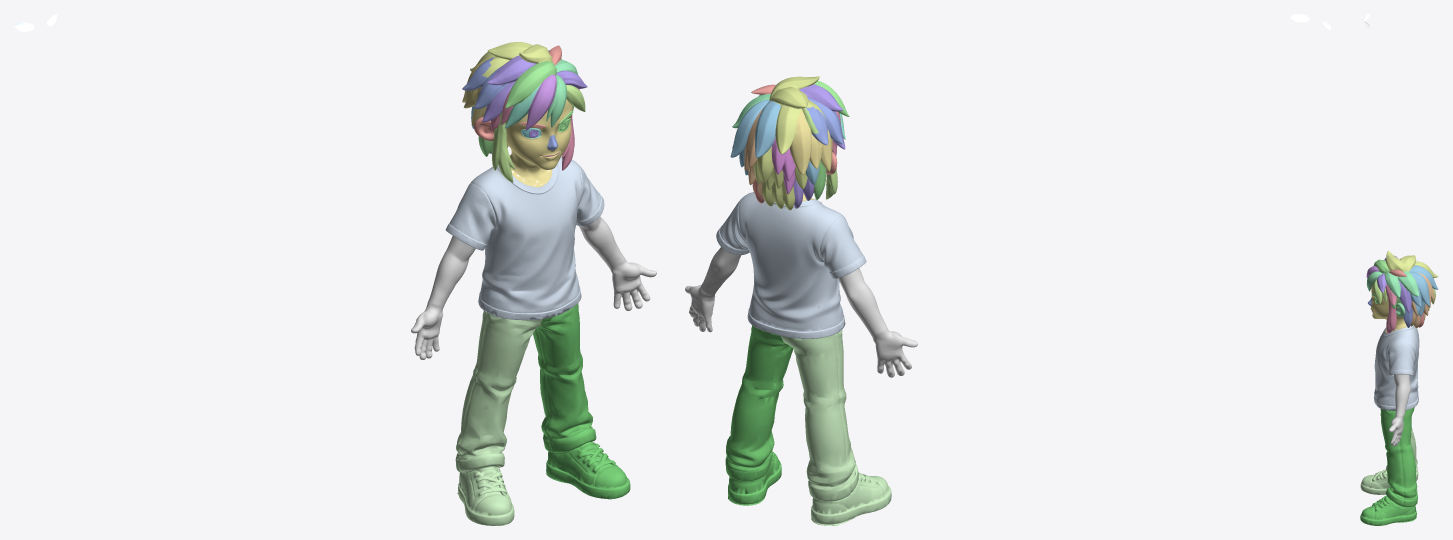
3 renders of one model, left to right at view 1: azimuth 30°, elevation 25°; view 2: azimuth 150°, elevation 25°; view 3: azimuth 270°, elevation 25°, orthographic. The views are drawn at different scales.
Parts seen in each view (by area): view 1: Torso_LOW, RightLeg_LOW, LeftLeg_LOW, RightArm_LOW, LeftArm_LOW, part_6_LOW, part_8_LOW, part_29_LOW, part_15_LOW, part_26_LOW, part_34_LOW, part_10_LOW (+1 smaller); view 2: Torso_LOW, RightLeg_LOW, LeftLeg_LOW, RightArm_LOW, part_8_LOW, LeftArm_LOW, part_25_LOW, part_5_LOW, part_9_LOW, part_26_LOW; view 3: LeftLeg_LOW, Torso_LOW, LeftArm_LOW, RightLeg_LOW, part_25_LOW, part_20_LOW, part_8_LOW, part_38_LOW, part_6_LOW, part_4_LOW, part_32_LOW, part_13_LOW (+5 smaller).
Part boxes in pixels (x1,y1,x2,y2): Torso_LOW: [445, 156, 604, 320]; RightLeg_LOW: [455, 311, 542, 525]; LeftLeg_LOW: [533, 303, 630, 499]; RightArm_LOW: [411, 236, 475, 359]; LeftArm_LOW: [579, 216, 656, 310]; part_6_LOW: [505, 99, 572, 169]; part_8_LOW: [470, 42, 552, 77]; part_29_LOW: [482, 55, 536, 122]; part_15_LOW: [505, 61, 556, 108]; part_26_LOW: [462, 57, 508, 108]; part_34_LOW: [525, 74, 556, 130]; part_10_LOW: [492, 112, 515, 182]; Torso_LOW: [716, 192, 866, 338]; RightLeg_LOW: [781, 329, 891, 525]; LeftLeg_LOW: [725, 325, 793, 505]; RightArm_LOW: [838, 268, 917, 377]; part_8_LOW: [769, 76, 825, 154]; LeftArm_LOW: [685, 247, 741, 332]; part_25_LOW: [730, 100, 781, 175]; part_5_LOW: [790, 111, 832, 174]; part_9_LOW: [753, 146, 794, 210]; part_26_LOW: [806, 98, 843, 145]; LeftLeg_LOW: [1360, 407, 1417, 525]; Torso_LOW: [1374, 325, 1419, 410]; LeftArm_LOW: [1388, 374, 1410, 446]; RightLeg_LOW: [1360, 428, 1418, 494]; part_25_LOW: [1409, 265, 1438, 316]; part_20_LOW: [1384, 271, 1419, 297]; part_8_LOW: [1386, 250, 1438, 278]; part_38_LOW: [1385, 284, 1396, 333]; part_6_LOW: [1370, 283, 1402, 318]; part_4_LOW: [1410, 272, 1434, 328]; part_32_LOW: [1398, 279, 1411, 312]; part_13_LOW: [1373, 279, 1387, 304].
Size of the model in its own units: 1.5 by 1.34 by 0.2741.
